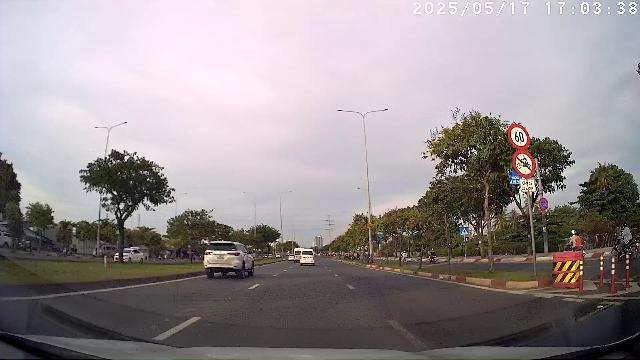127-toc-do-toi-da-60: (508, 124, 530, 150)
